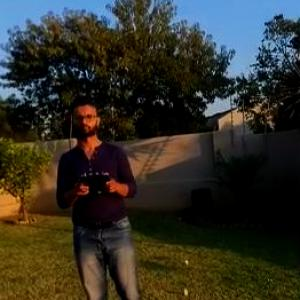follow: (50, 90, 150, 299)
